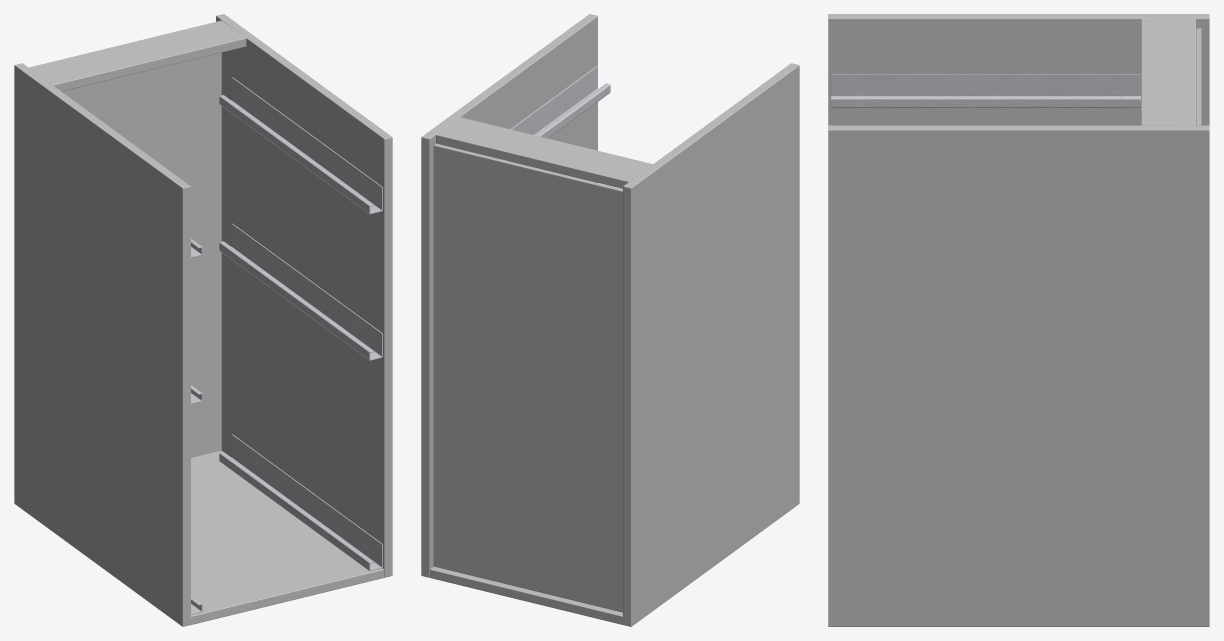
Rendered from SM_Kitchen_06_Base.dae.
3 views of the same model, side by side, from view 1: azimuth 30°, elevation 25°; view 2: azimuth 150°, elevation 25°; view 3: azimuth 270°, elevation 25° (orthographic). The views are drawn at different scales.
Visible parts, largest first — view 1: SM_Kitchen_06_Base; view 2: SM_Kitchen_06_Base; view 3: SM_Kitchen_06_Base.
Part boxes in pixels (x1,y1,x2,y2): SM_Kitchen_06_Base: (14, 14, 392, 626); SM_Kitchen_06_Base: (421, 14, 799, 626); SM_Kitchen_06_Base: (828, 14, 1209, 626).
Bounding box in the file's own units: 0.3996 × 0.5549 × 0.798.
